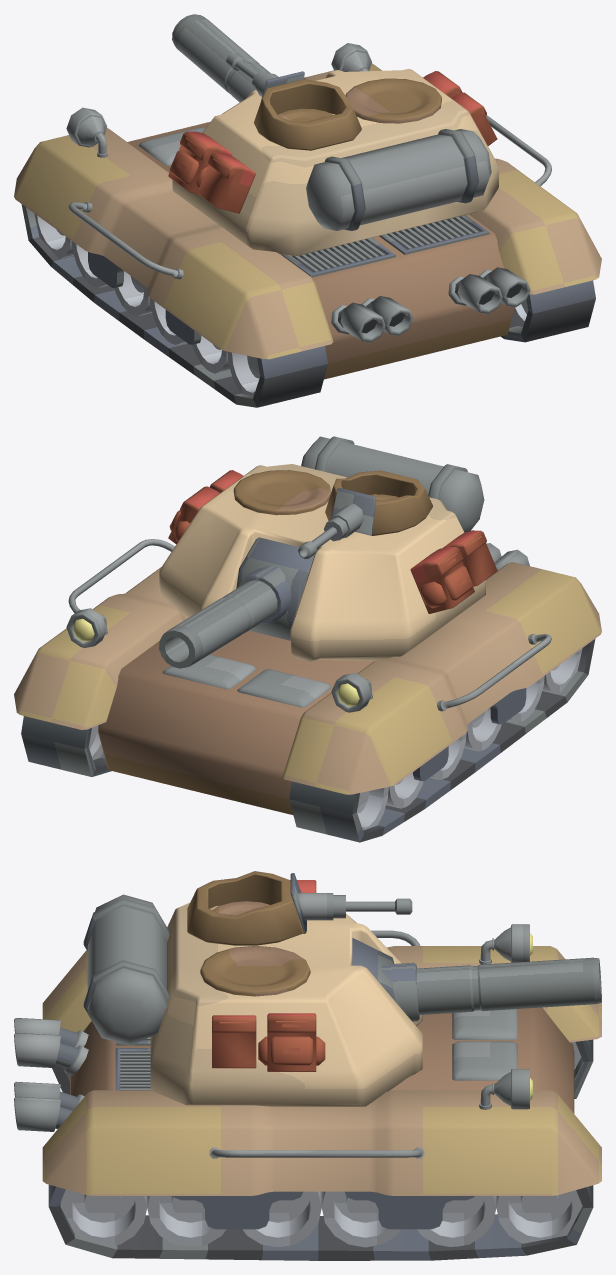
File: ZUBR.fbx
3 renders of one model, top to bottom at view 1: azimuth 30°, elevation 25°; view 2: azimuth 150°, elevation 25°; view 3: azimuth 270°, elevation 25°, orthographic. The views are drawn at different scales.
Parts seen in each view (by area): view 1: Desert_tank_zubr.013, Desert_tank_zubr.002, Desert_tank_zubr.017, Desert_tank_zubr.003, Desert_tank_zubr.004, Desert_tank_zubr.011, Desert_tank_zubr.010, Desert_tank_zubr.009, Desert_tank_zubr.001, Desert_tank_zubr.008, Desert_tank_zubr.007, Desert_tank_zubr.014 (+2 smaller); view 2: Desert_tank_zubr.013, Desert_tank_zubr.002, Desert_tank_zubr.003, Desert_tank_zubr.004, Desert_tank_zubr.017, Desert_tank_zubr.014, Desert_tank_zubr.011, Desert_tank_zubr.010, Desert_tank_zubr.001, Desert_tank_zubr.007, Desert_tank_zubr.012, Desert_tank_zubr.005 (+2 smaller); view 3: Desert_tank_zubr.013, Desert_tank_zubr.002, Desert_tank_zubr.001, Desert_tank_zubr.017, Desert_tank_zubr.004, Desert_tank_zubr.014, Desert_tank_zubr.003, Desert_tank_zubr.011, Desert_tank_zubr.010, Desert_tank_zubr.009, Desert_tank_zubr.005, Desert_tank_zubr.007 (+2 smaller).
Boxes of the visible parts, x1,y1,x2,y2 form: Desert_tank_zubr.013: [14, 63, 601, 359]; Desert_tank_zubr.002: [172, 69, 498, 255]; Desert_tank_zubr.017: [306, 78, 491, 230]; Desert_tank_zubr.003: [127, 122, 514, 379]; Desert_tank_zubr.004: [21, 204, 595, 407]; Desert_tank_zubr.011: [226, 52, 361, 150]; Desert_tank_zubr.010: [168, 71, 497, 213]; Desert_tank_zubr.009: [331, 267, 530, 342]; Desert_tank_zubr.001: [34, 213, 528, 396]; Desert_tank_zubr.008: [281, 215, 489, 277]; Desert_tank_zubr.007: [66, 43, 551, 279]; Desert_tank_zubr.014: [172, 14, 270, 102]; Desert_tank_zubr.013: [14, 562, 601, 794]; Desert_tank_zubr.002: [159, 464, 485, 661]; Desert_tank_zubr.003: [98, 630, 375, 814]; Desert_tank_zubr.004: [21, 639, 595, 842]; Desert_tank_zubr.017: [233, 436, 484, 532]; Desert_tank_zubr.014: [159, 537, 316, 668]; Desert_tank_zubr.011: [298, 470, 432, 559]; Desert_tank_zubr.010: [168, 470, 497, 613]; Desert_tank_zubr.001: [89, 648, 582, 830]; Desert_tank_zubr.007: [66, 539, 551, 712]; Desert_tank_zubr.012: [162, 654, 331, 707]; Desert_tank_zubr.005: [413, 688, 526, 781]; Desert_tank_zubr.013: [42, 946, 601, 1195]; Desert_tank_zubr.002: [150, 902, 422, 1106]; Desert_tank_zubr.001: [60, 1042, 582, 1247]; Desert_tank_zubr.017: [83, 894, 310, 1045]; Desert_tank_zubr.004: [48, 1039, 593, 1260]; Desert_tank_zubr.014: [352, 938, 601, 1021]; Desert_tank_zubr.003: [70, 1007, 574, 1113]; Desert_tank_zubr.011: [187, 871, 412, 945]; Desert_tank_zubr.010: [212, 880, 325, 1071]; Desert_tank_zubr.009: [14, 1018, 88, 1131]; Desert_tank_zubr.005: [173, 1191, 474, 1229]; Desert_tank_zubr.007: [209, 924, 529, 1158].
Size of the model in its own units: 296 by 166 by 330.
